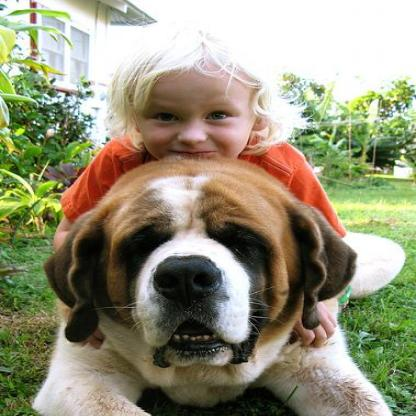Saint_Bernard: (30, 154, 395, 414)
